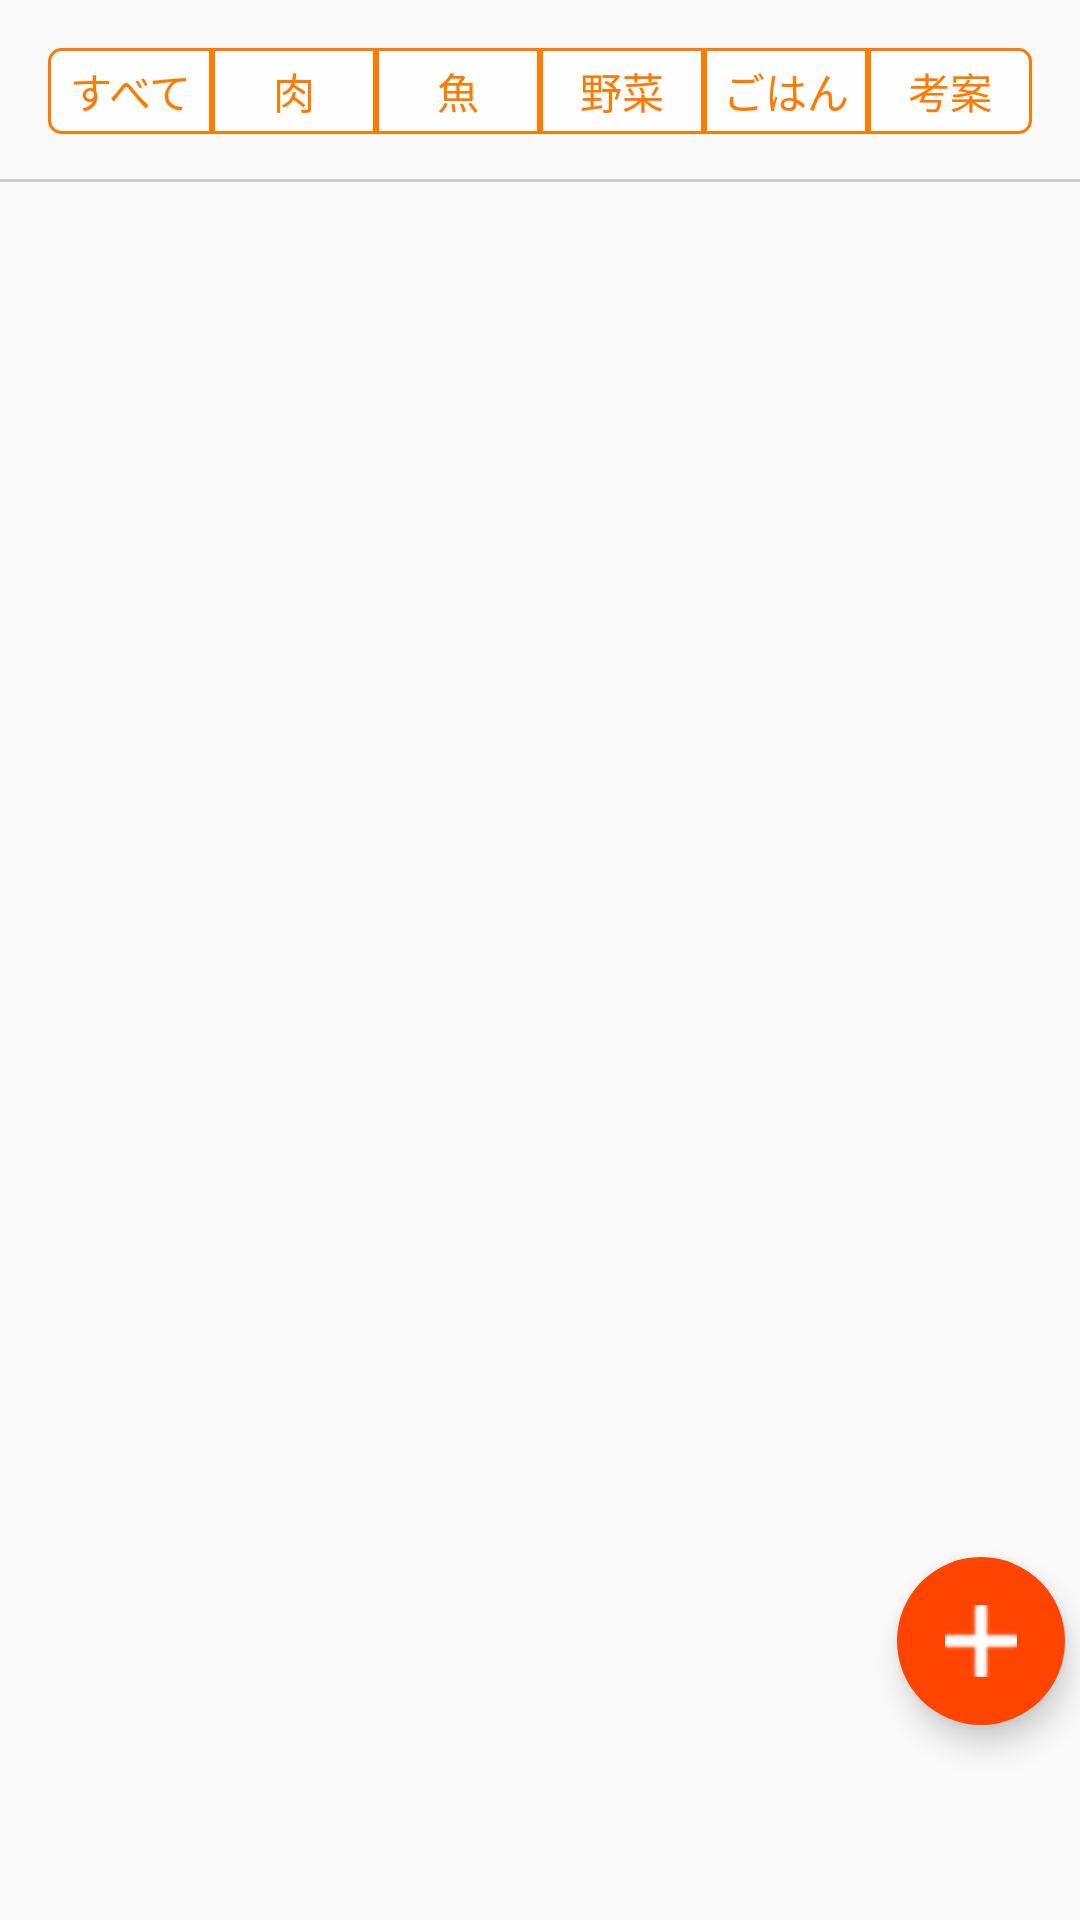

Icons on this 1080×1920 Android screen, each with the point to tap as (x,y):
fab: (981,1641)
